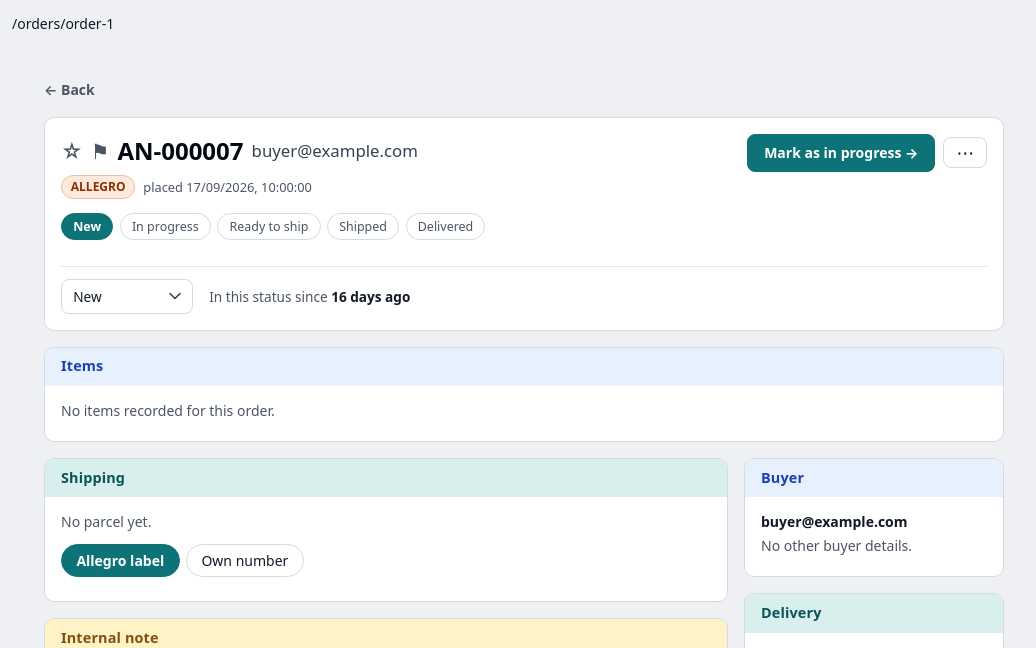
Test case: deleting from the order's page › shows what the backend said when it refuses
This screenshot has width=1036, height=648.
Click the button named "Actions". click: (965, 153)
box: x1=943 y1=137 x2=987 y2=168
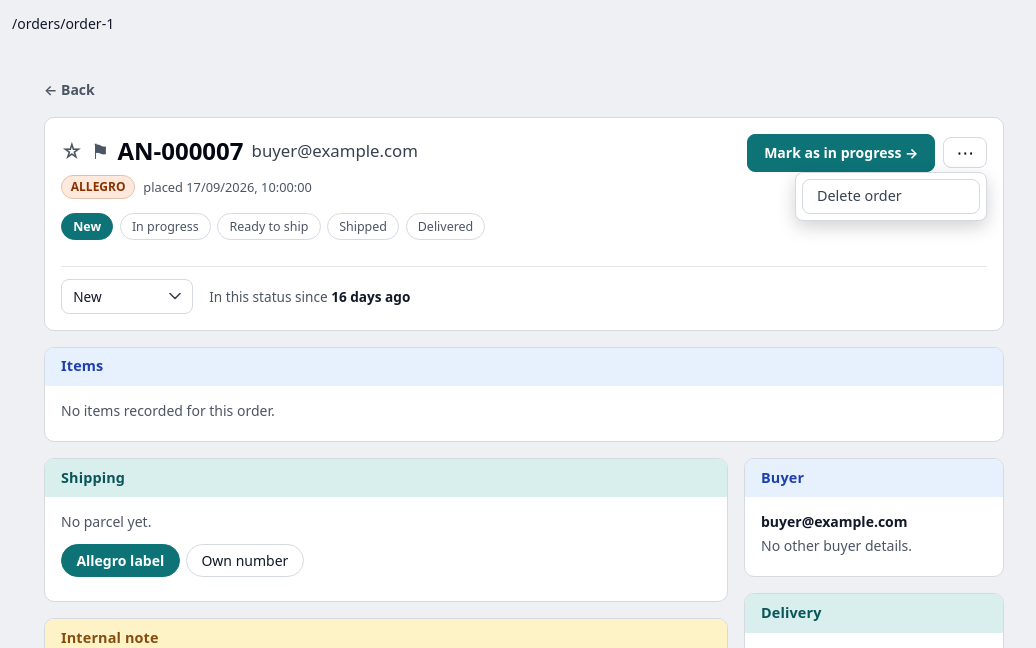
Click the menu item "Delete order". click: (891, 197)
box: x1=802 y1=179 x2=980 y2=214
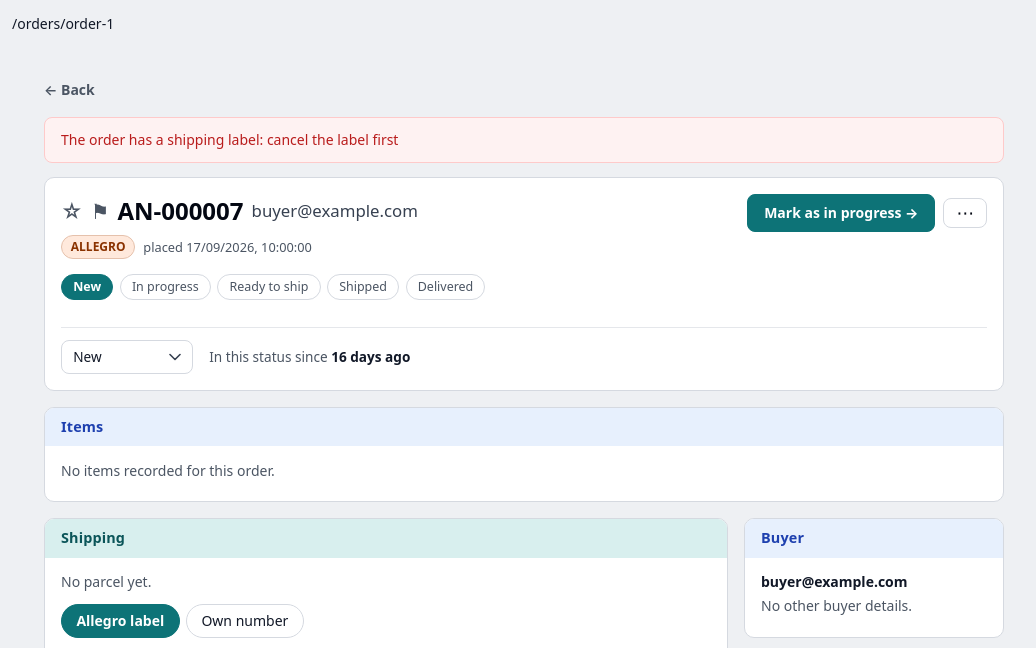
expect the message shows "cancel the label first": met, box x1=61 y1=130 x2=398 y2=149
Click the button named "Actions". click: (965, 213)
box: x1=943 y1=198 x2=987 y2=228
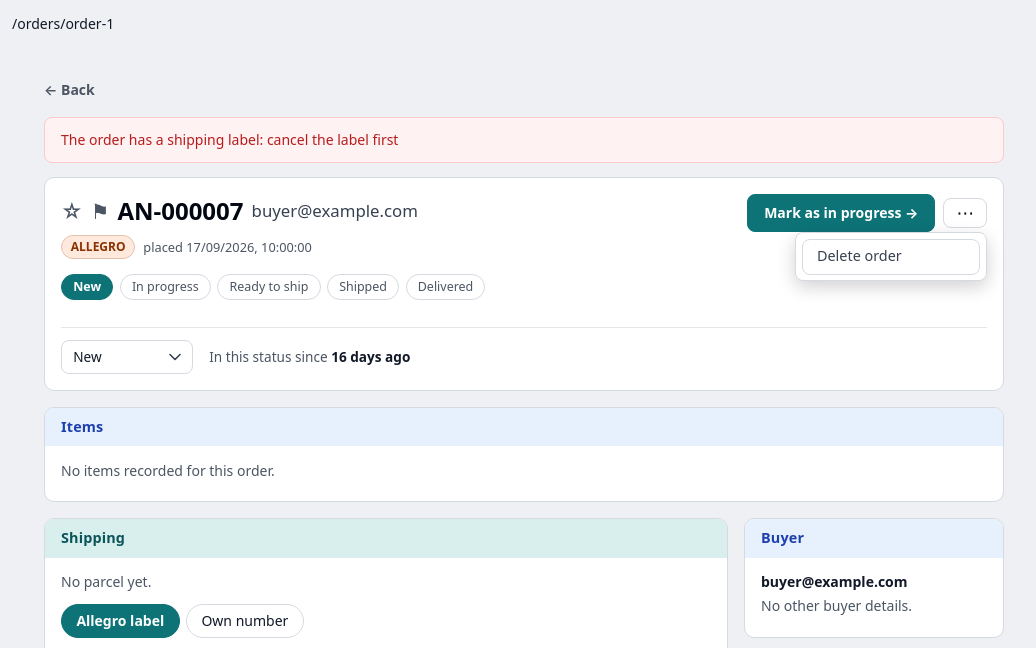
expect the menu item "Delete order" is enabled: met, box x1=802 y1=239 x2=980 y2=275
